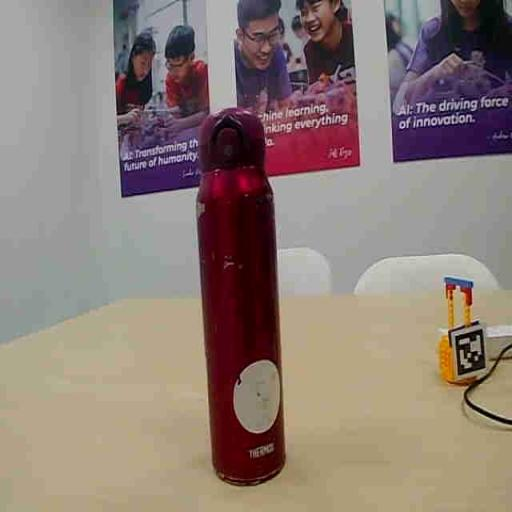bottle: (199, 108, 285, 485)
